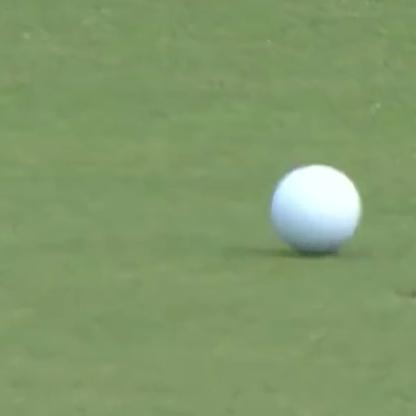golfball: (270, 156, 359, 252)
